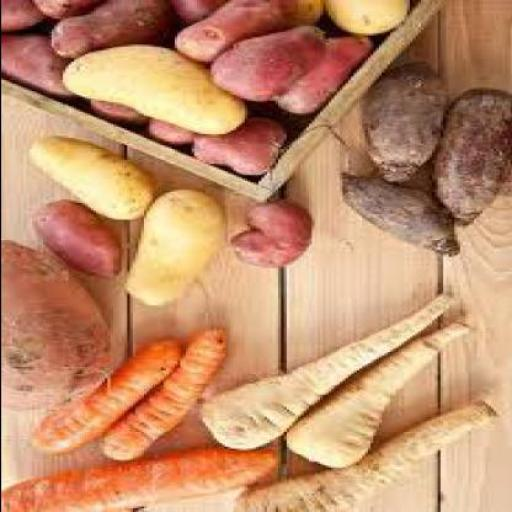biodegradable: (196, 288, 453, 448), (230, 400, 496, 511), (282, 320, 470, 465), (1, 239, 109, 411), (0, 443, 272, 511), (25, 335, 179, 453), (59, 38, 244, 132), (98, 322, 216, 458), (118, 188, 218, 306), (22, 132, 154, 218), (428, 84, 510, 222), (336, 171, 459, 255), (360, 60, 440, 180), (204, 22, 325, 99), (25, 198, 123, 278), (271, 30, 364, 112), (168, 0, 294, 58), (44, 0, 165, 57), (185, 116, 283, 174), (226, 200, 308, 264), (1, 30, 65, 97), (322, 0, 408, 33), (87, 95, 146, 125), (1, 0, 53, 32), (145, 113, 196, 145), (165, 0, 226, 22), (28, 0, 98, 17), (279, 0, 319, 28)
